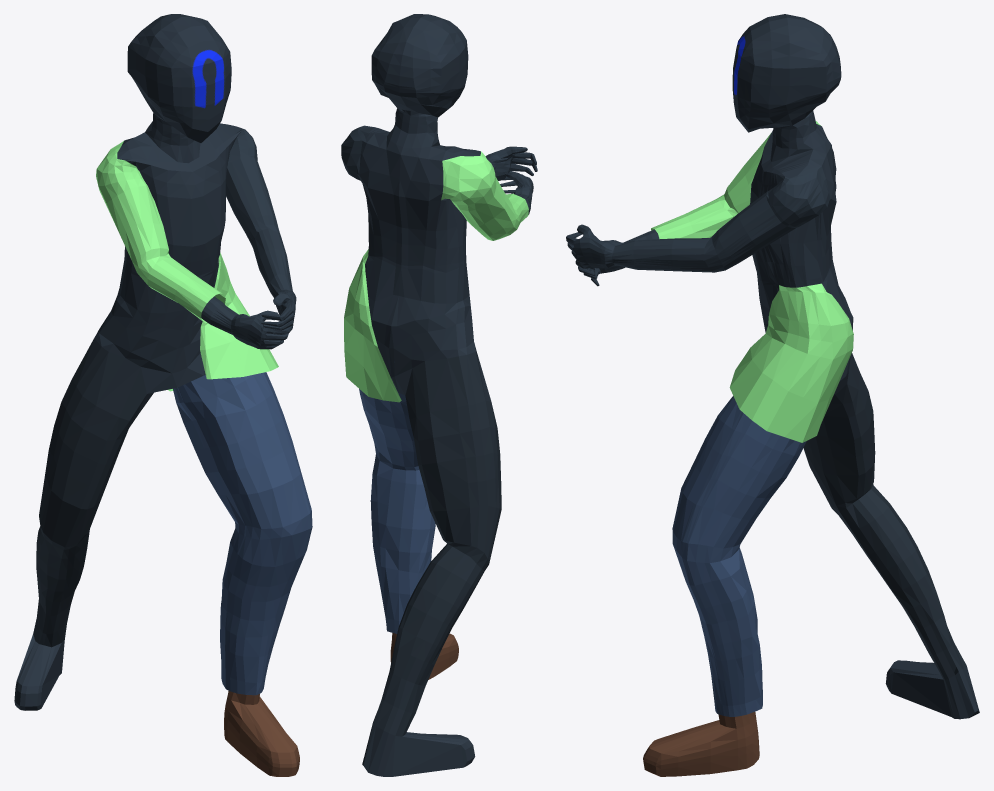
File: Mar_WF_000005.obj
3 views of the same model, side by side, from view 1: azimuth 30°, elevation 25°; view 2: azimuth 150°, elevation 25°; view 3: azimuth 270°, elevation 25° (orthographic). The views are drawn at different scales.
Visible parts, largest first — view 1: Cube.000_Cube.001; view 2: Cube.000_Cube.001; view 3: Cube.000_Cube.001.
Part boxes in pixels (box(x1,y1,x2,y2)): Cube.000_Cube.001: box(14, 14, 312, 776); Cube.000_Cube.001: box(341, 14, 537, 776); Cube.000_Cube.001: box(566, 14, 979, 776).
Size of the model in its own units: 1.08 by 3.79 by 1.94.
